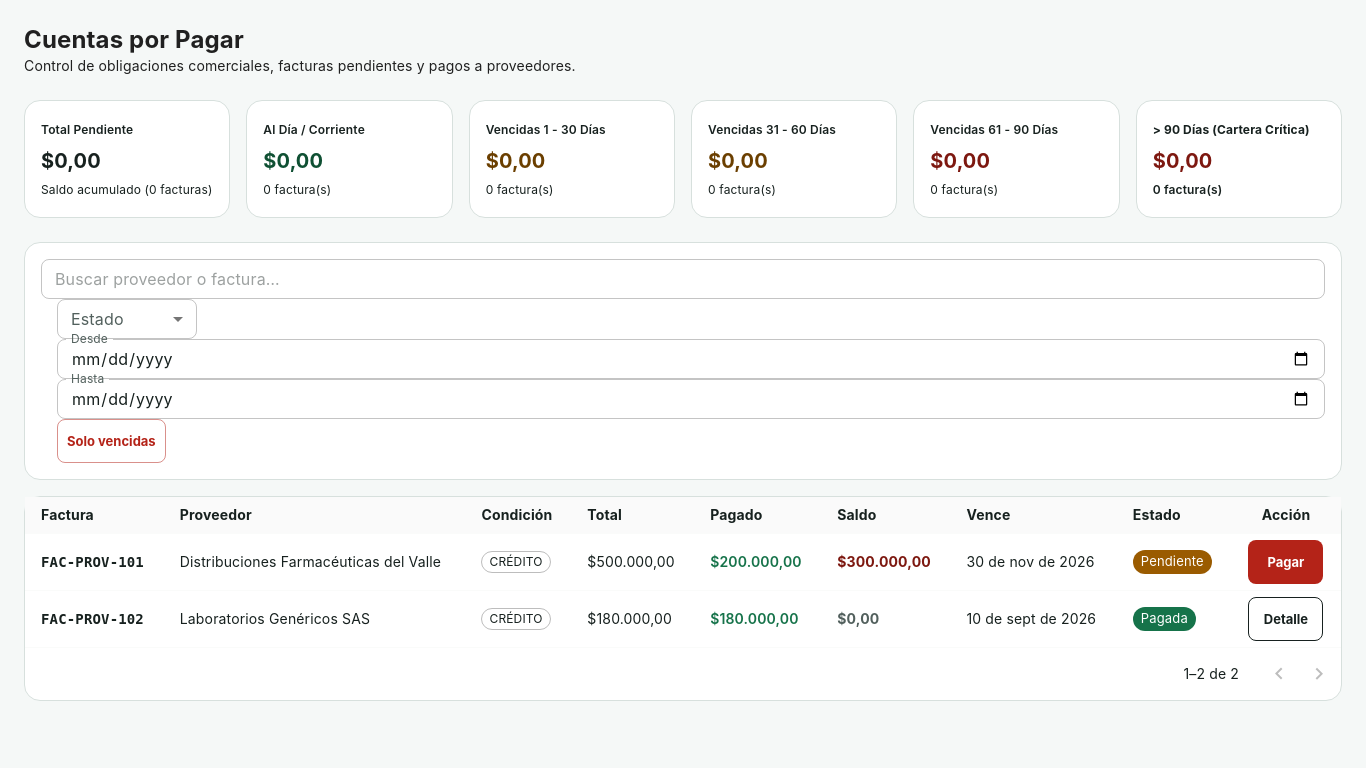
Test: PayablesPage (Frontend Cuentas por Pagar — UX-23) › abre el modal de pago al hacer click en Pagar
Check: the text "Distribuciones Farmacéuticas del Valle" is shown, box [164,534,466,590]
Click the button "Pagar".
click(1286, 562)  # box [1248,540,1323,584]
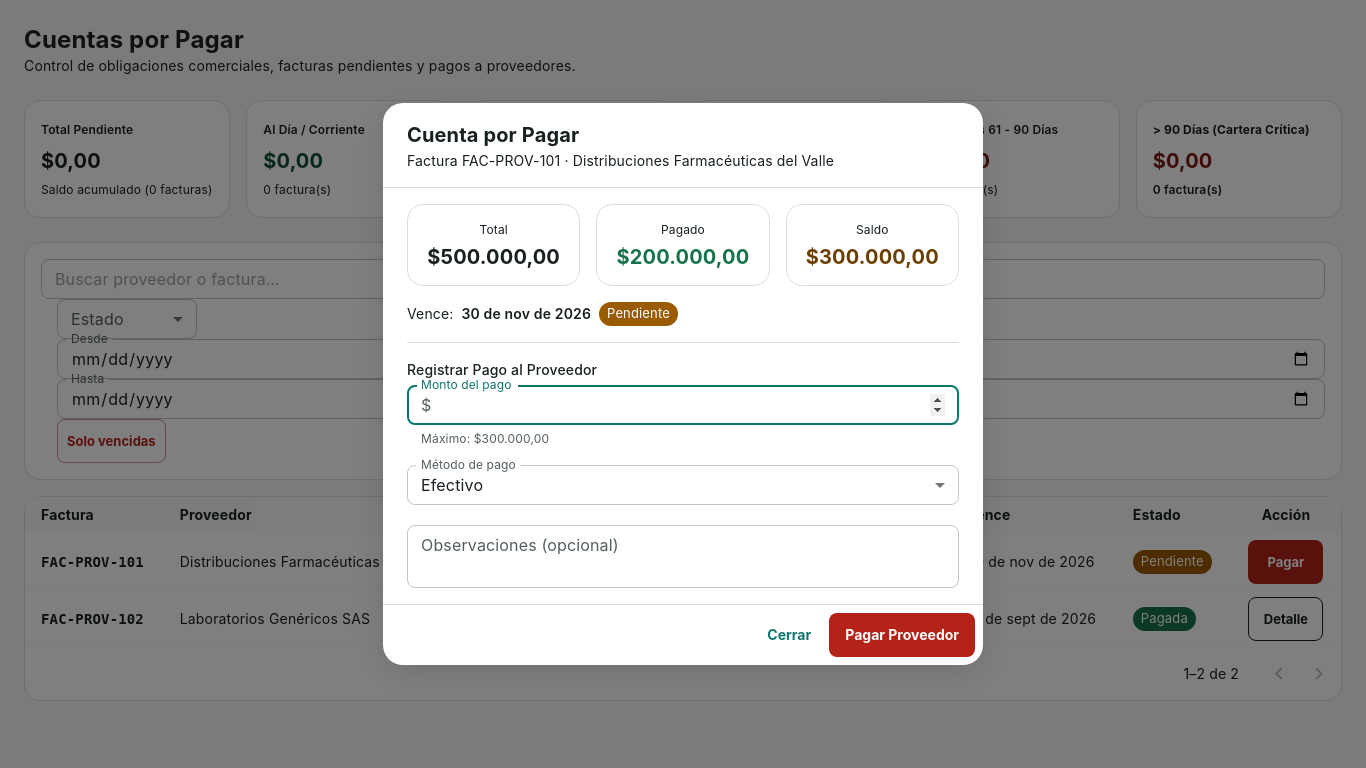
Check: the text "Cuenta por Pagar" is shown, box [407,123,579,147]
Check: the number field labelled "Monto del pago" is shown, box [439,386,959,426]
